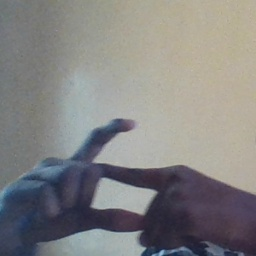E: (62, 114, 171, 241)
